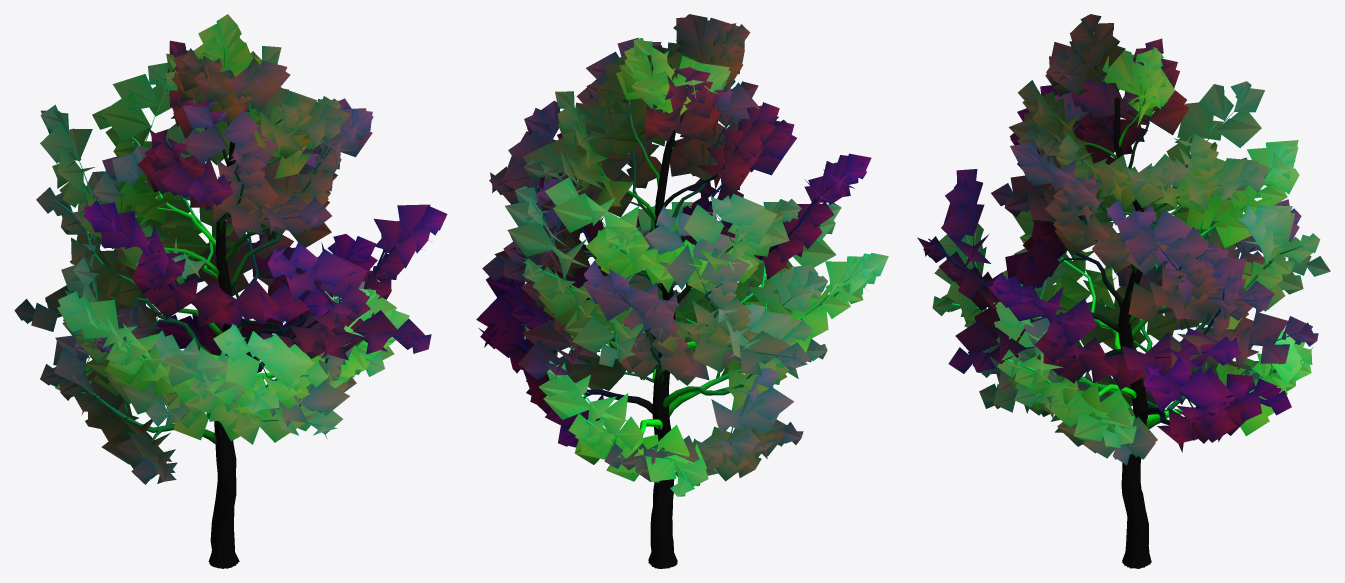
File: SM_FLTree_07.FBX
The picture shows the model from 3 angles, left to right: view 1: azimuth 30°, elevation 25°; view 2: azimuth 150°, elevation 25°; view 3: azimuth 270°, elevation 25°; orthographic projection. The views are drawn at different scales.
Parts seen in each view (by area): view 1: SM_FLTree_07_LOD0; view 2: SM_FLTree_07_LOD0; view 3: SM_FLTree_07_LOD0.
Boxes of the visible parts, bbox=[...] form: SM_FLTree_07_LOD0: bbox=[14, 14, 447, 568]; SM_FLTree_07_LOD0: bbox=[476, 14, 888, 568]; SM_FLTree_07_LOD0: bbox=[917, 14, 1330, 568].
Size of what is drawn, in the model's own units: 748 by 775 by 1079.
